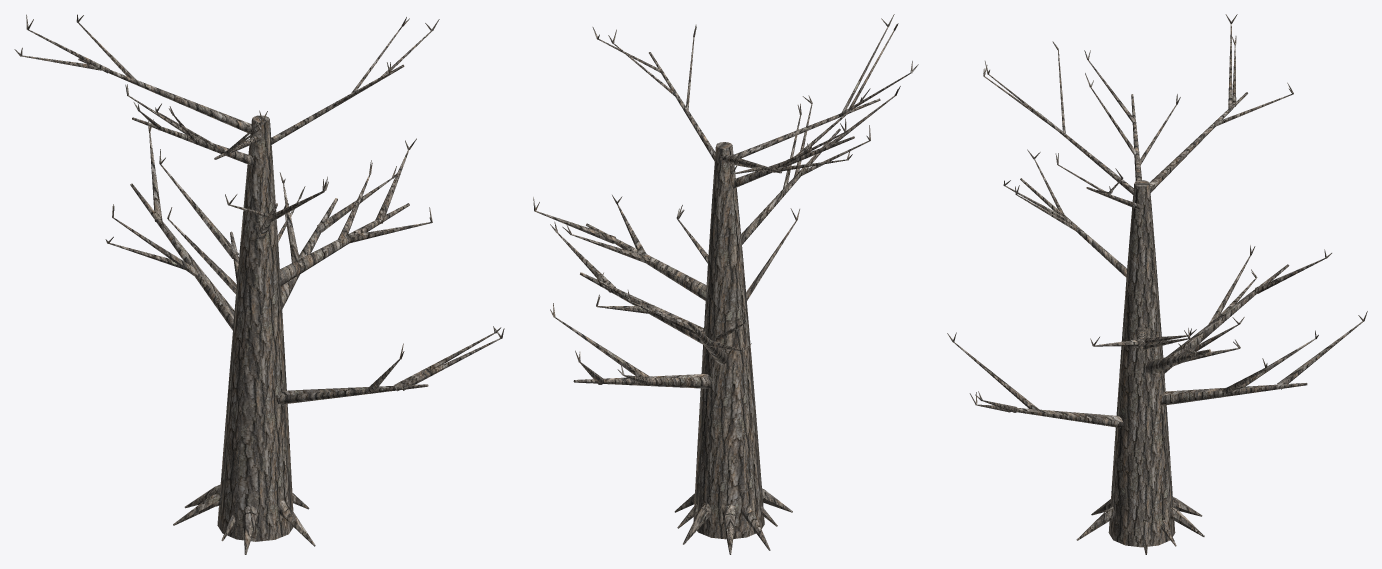
Rendered from giant-dead-oak-v02.glb.
The picture shows the model from 3 angles, left to right: view 1: azimuth 30°, elevation 25°; view 2: azimuth 150°, elevation 25°; view 3: azimuth 270°, elevation 25°; orthographic projection. The views are drawn at different scales.
Parts seen in each view (by area): view 1: dead-tree-oak; view 2: dead-tree-oak; view 3: dead-tree-oak.
Part boxes in pixels (box(x1,y1,x2,y2)): dead-tree-oak: box(14, 14, 504, 554); dead-tree-oak: box(533, 14, 918, 554); dead-tree-oak: box(947, 14, 1367, 554).
Bounding box in the file's own units: 8.75 × 11.54 × 9.87.
1 material, 1 textured.
